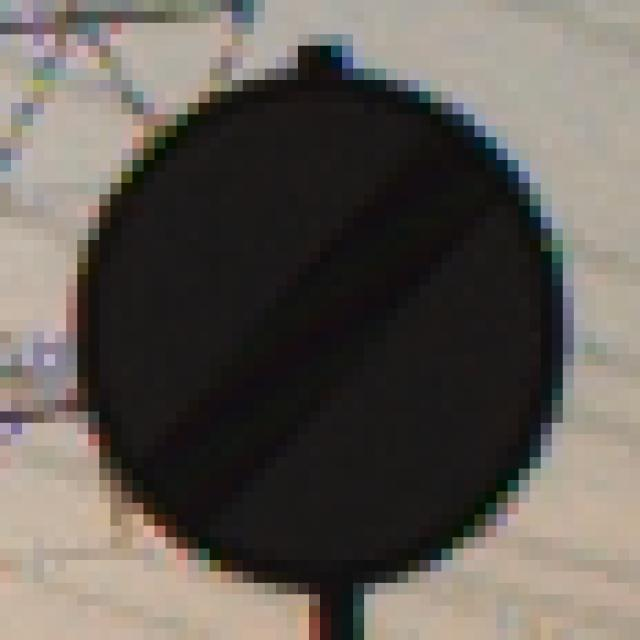restriction ends: (58, 54, 578, 597)
